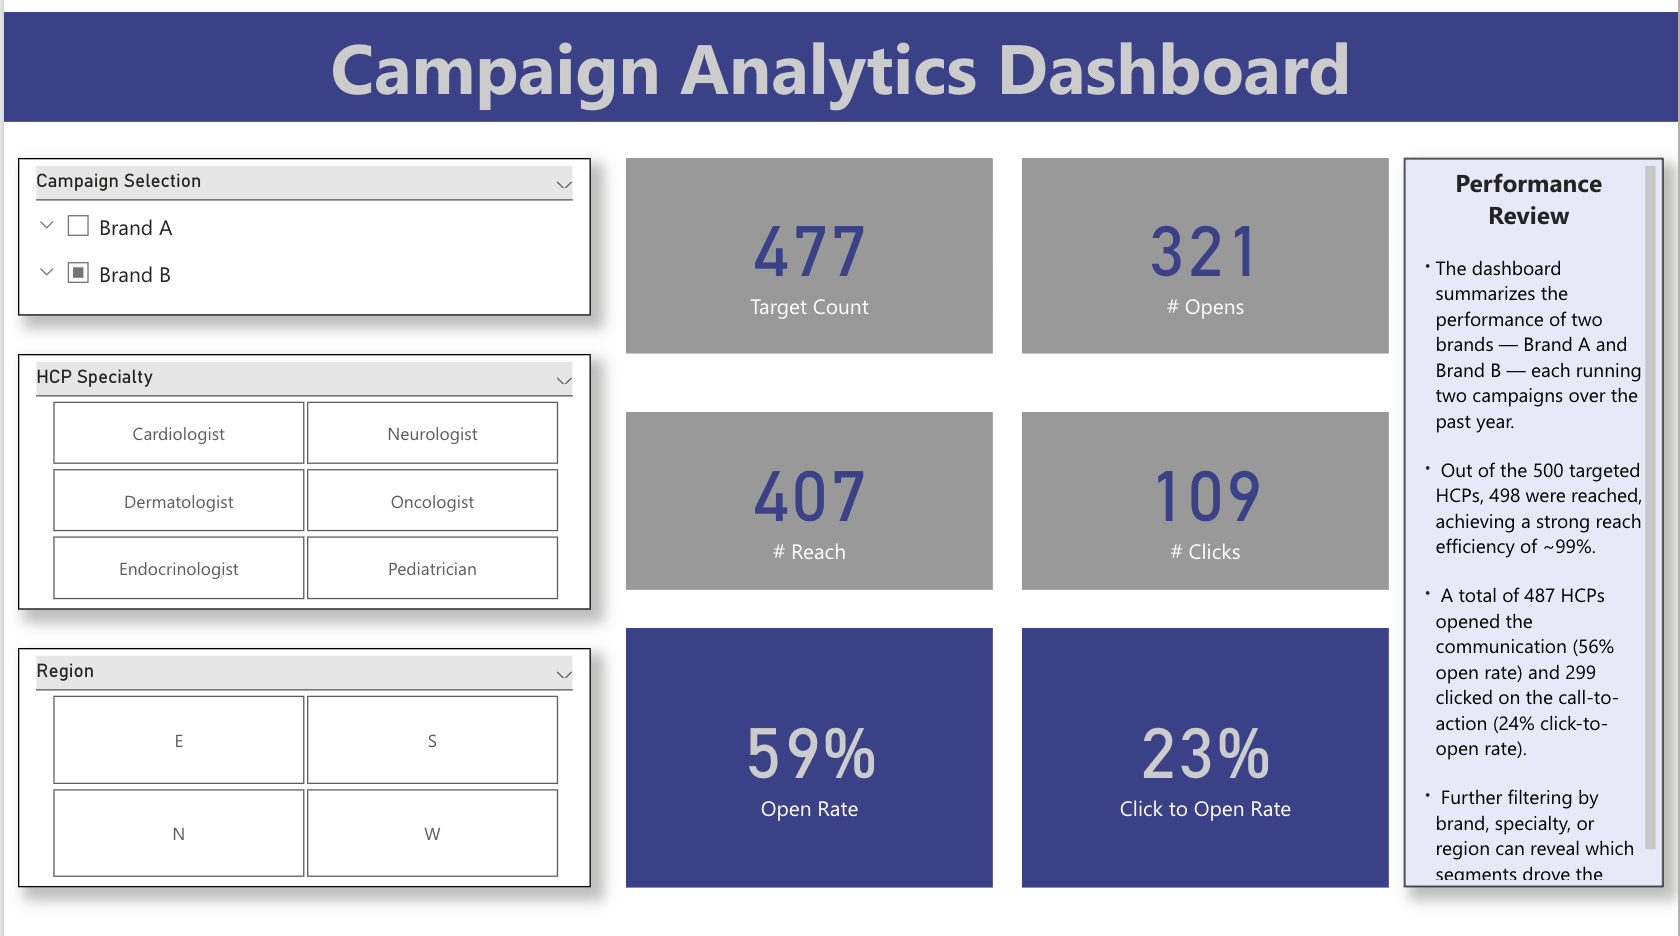

What the dashboard file says about the page in this screenshot:
{"tool":"powerbi","page":{"name":"Overview","canvas":[1280,720],"ordinal":0},"visuals":[{"type":"slicer","fields":{"Values":["campaign_data.brand name","campaign_data.campaign name"]},"box":[10.7,123.6,437.9,120.5],"z":0},{"type":"slicer","fields":{"Values":["campaign_data.hcp specialty"]},"box":[10.7,273.1,437.9,195.3],"z":1000},{"type":"slicer","fields":{"Values":["campaign_data.hcp region (N/S/E/W)"]},"box":[10.7,498.9,437.9,183.1],"z":2000},{"type":"card","fields":{"Values":["Count(campaign_data.hcp id)"]},"box":[476,123.6,280.7,149.5],"z":3000},{"type":"card","fields":{"Values":["Count(campaign_data.hcp id)"]},"box":[476,317.3,280.7,135.8],"z":4000},{"type":"card","fields":{"Values":["Count(campaign_data.hcp id)"]},"box":[778.1,123.6,280.7,149.5],"z":5000},{"type":"card","fields":{"Values":["Count(campaign_data.hcp id)"]},"box":[778.1,317.3,280.7,135.8],"z":6000},{"type":"card","fields":{"Values":["select","Sum(campaign_data.open (1 or 0))","Sum(campaign_data.reach (1 or 0))"]},"box":[476,483.6,280.7,198.3],"z":7000},{"type":"card","fields":{"Values":["select","Sum(campaign_data.click (1 or 0))","Sum(campaign_data.open (1 or 0))"]},"box":[778.1,483.6,280.7,198.3],"z":8000},{"type":"textbox","title":"Performance Review","box":[1071,123.6,209,558.4],"z":9000},{"type":"textbox","box":[0,12.2,1280,84],"z":10000}]}

Visuals, with their boxes in screenshot pixels (x1, y1, x2, y2), scaled from the page's 1280x720 canvas onto the 1680x936 screenshot:
slicer - campaign_data.brand name x campaign_data.campaign name: [left=14, top=161, right=589, bottom=317]
slicer - campaign_data.hcp specialty: [left=14, top=355, right=589, bottom=609]
slicer - campaign_data.hcp region (N/S/E/W): [left=14, top=649, right=589, bottom=887]
card - Count(campaign_data.hcp id): [left=625, top=161, right=993, bottom=355]
card - Count(campaign_data.hcp id): [left=625, top=412, right=993, bottom=589]
card - Count(campaign_data.hcp id): [left=1021, top=161, right=1390, bottom=355]
card - Count(campaign_data.hcp id): [left=1021, top=412, right=1390, bottom=589]
card - select x Sum(campaign_data.open (1 or 0)): [left=625, top=629, right=993, bottom=886]
card - select x Sum(campaign_data.click (1 or 0)): [left=1021, top=629, right=1390, bottom=886]
"Performance Review" textbox: [left=1406, top=161, right=1679, bottom=887]
textbox: [left=0, top=16, right=1679, bottom=125]
